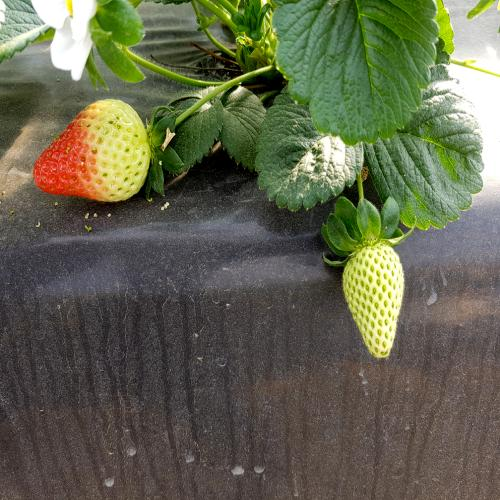partially-ripe: (19, 90, 158, 214)
unripe: (335, 222, 414, 371)
